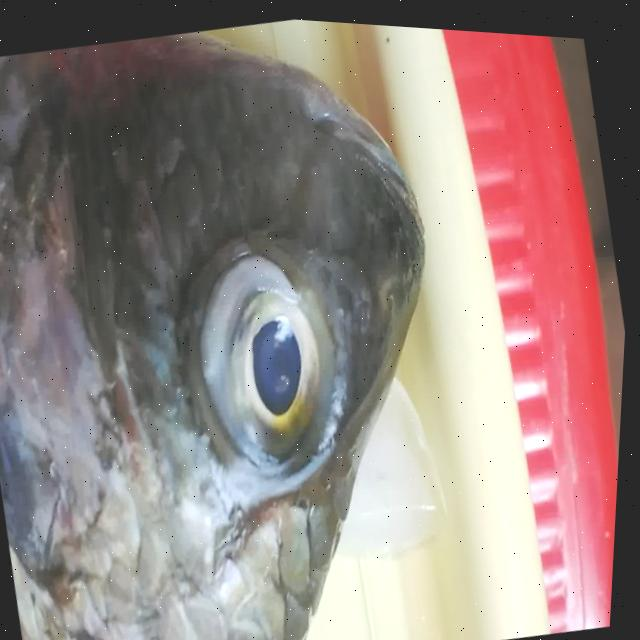Fresh: (163, 211, 375, 496)
